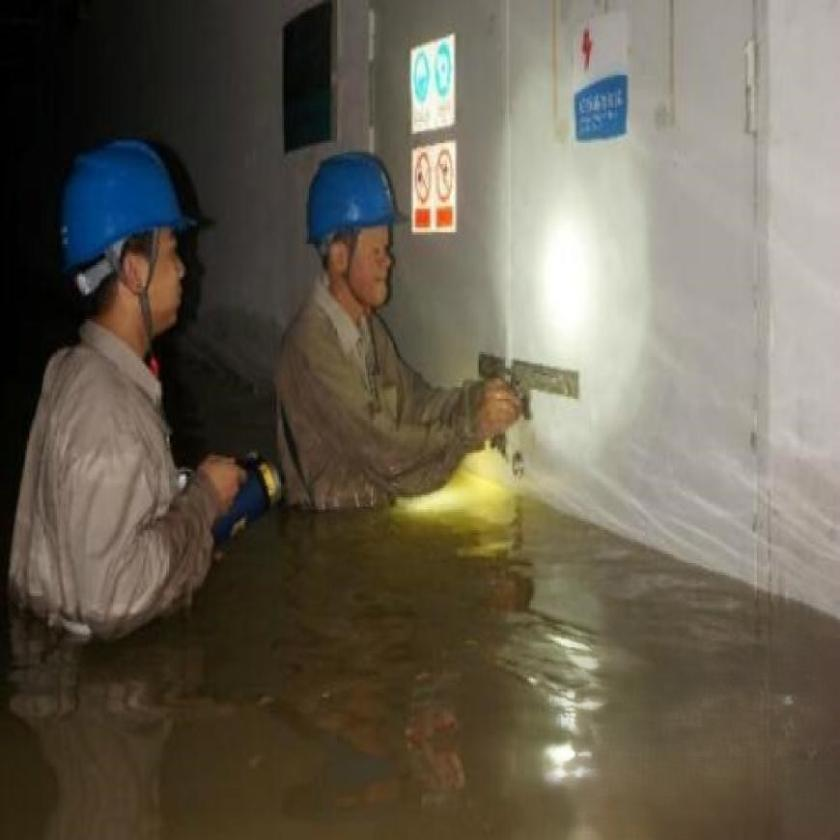Con_casco: (77, 124, 191, 352), (297, 140, 407, 312)
